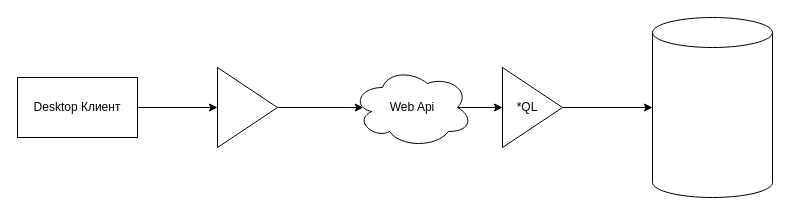
Image size: 790x215. Some labels were removed from this diagram. Each missing label, with the box of its shape:
RDF Database: (652, 16, 772, 198)
REST API: (216, 66, 278, 148)
